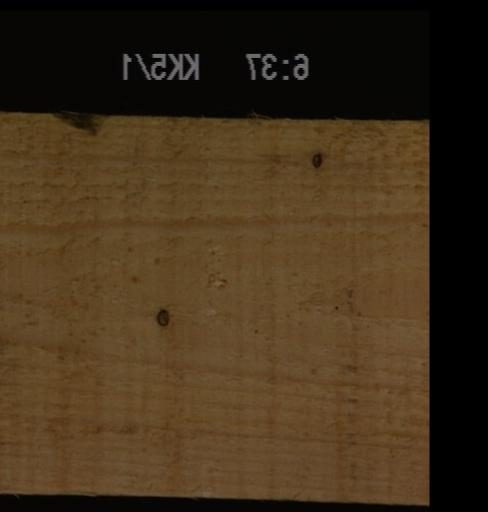dry_knot: (155, 307, 170, 325), (310, 149, 323, 166)
